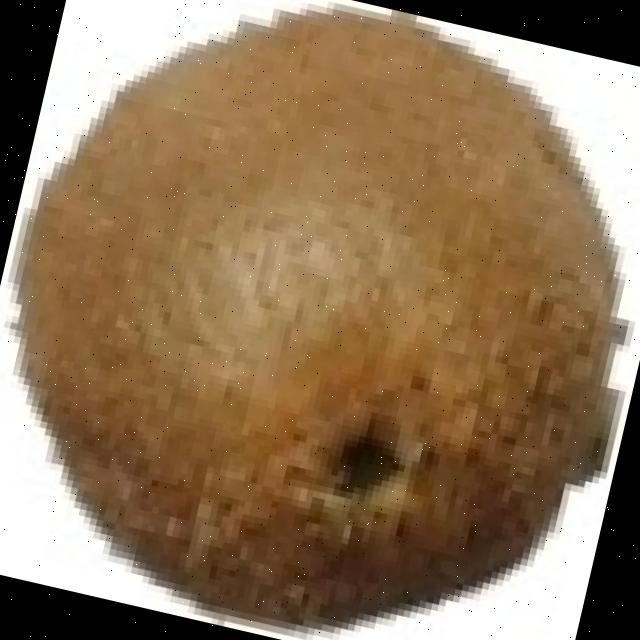kiwi: (10, 0, 610, 614)
